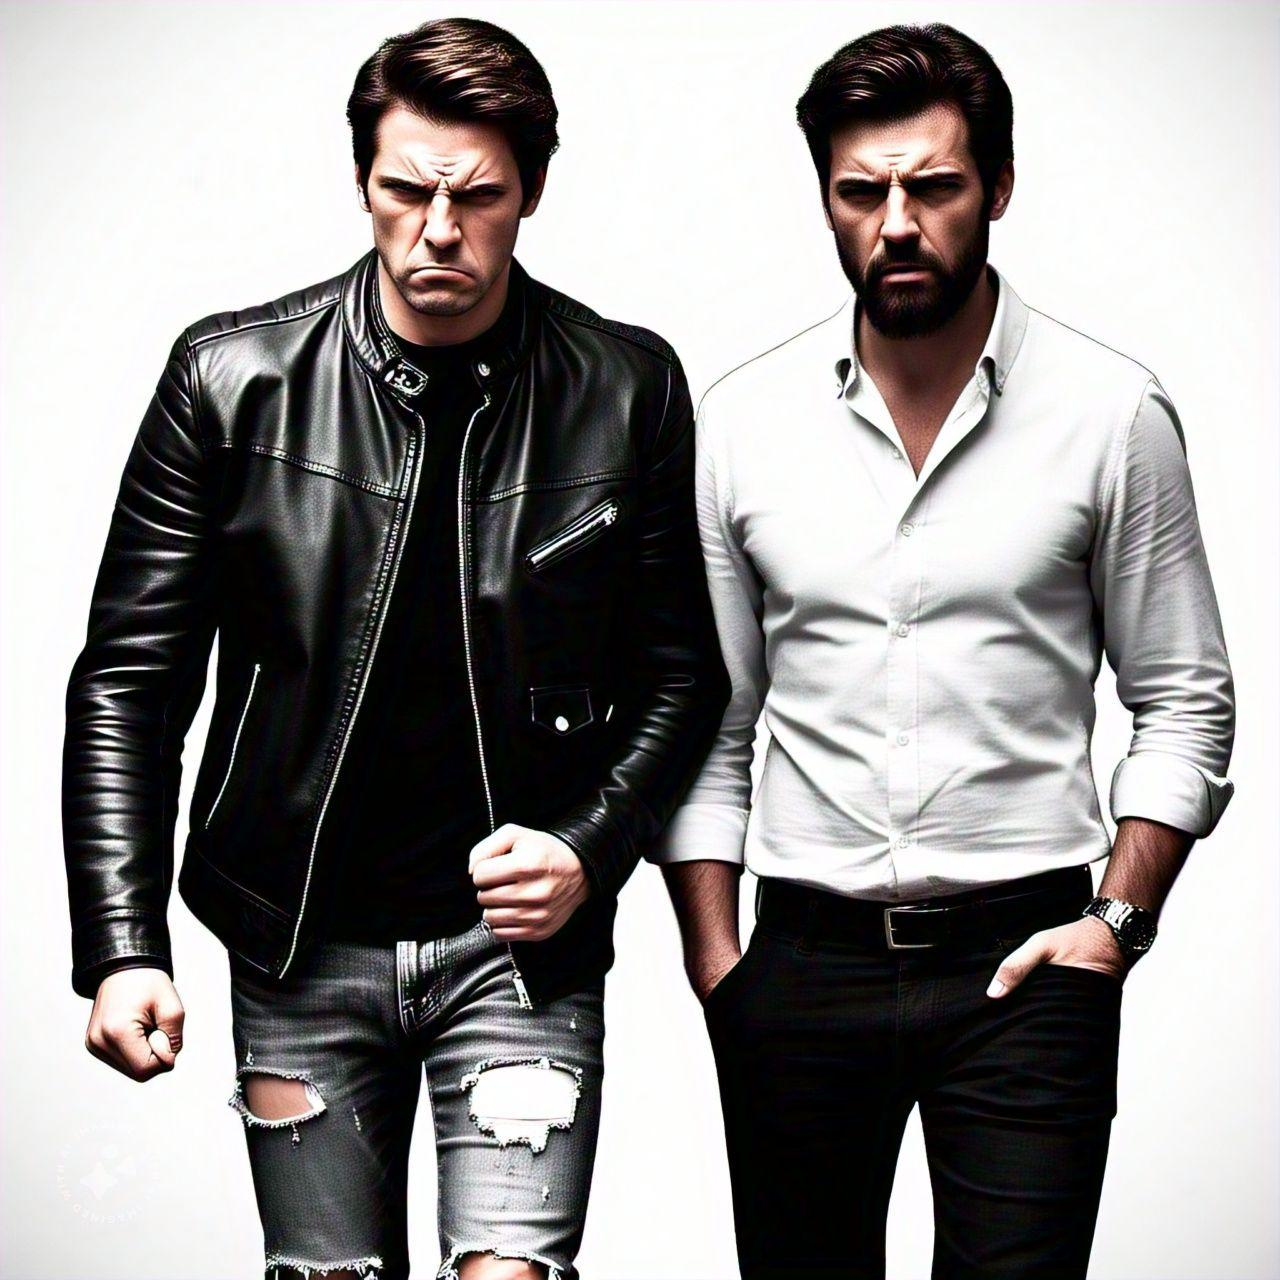normal: (818, 48, 1009, 340)
raiva: (368, 38, 537, 320)
